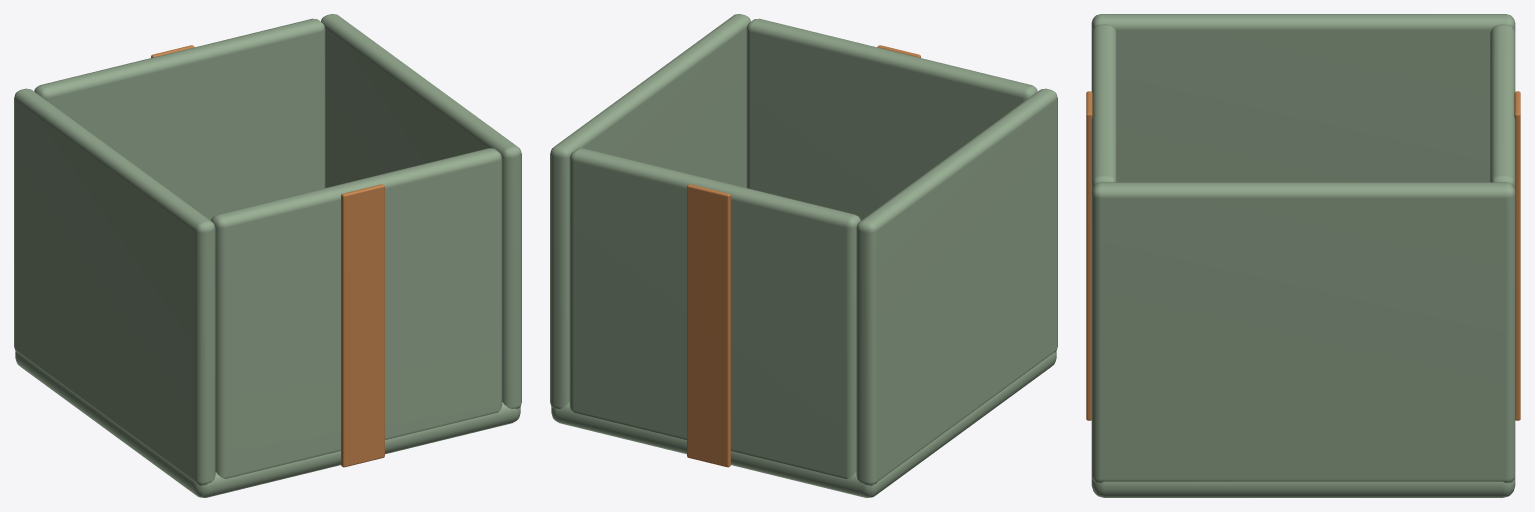
Rendered from gift-box-040.glb.
3 renders of one model, left to right at view 1: azimuth 30°, elevation 25°; view 2: azimuth 150°, elevation 25°; view 3: azimuth 270°, elevation 25°, orthographic. The views are drawn at different scales.
Parts seen in each view (by area): view 1: gift-box-040 / 23 / gift wrap sage, gift-box-040 / 18 / saffron textile; view 2: gift-box-040 / 23 / gift wrap sage, gift-box-040 / 18 / saffron textile; view 3: gift-box-040 / 23 / gift wrap sage, gift-box-040 / 18 / saffron textile.
Boxes of the visible parts, <box> form: gift-box-040 / 23 / gift wrap sage: <box>14,14,521,497</box>; gift-box-040 / 18 / saffron textile: <box>151,45,384,467</box>; gift-box-040 / 23 / gift wrap sage: <box>550,14,1057,497</box>; gift-box-040 / 18 / saffron textile: <box>687,45,920,467</box>; gift-box-040 / 23 / gift wrap sage: <box>1091,14,1515,497</box>; gift-box-040 / 18 / saffron textile: <box>1086,91,1520,420</box>.
Size of the model in its own units: 0.4 by 0.325 by 0.41.
